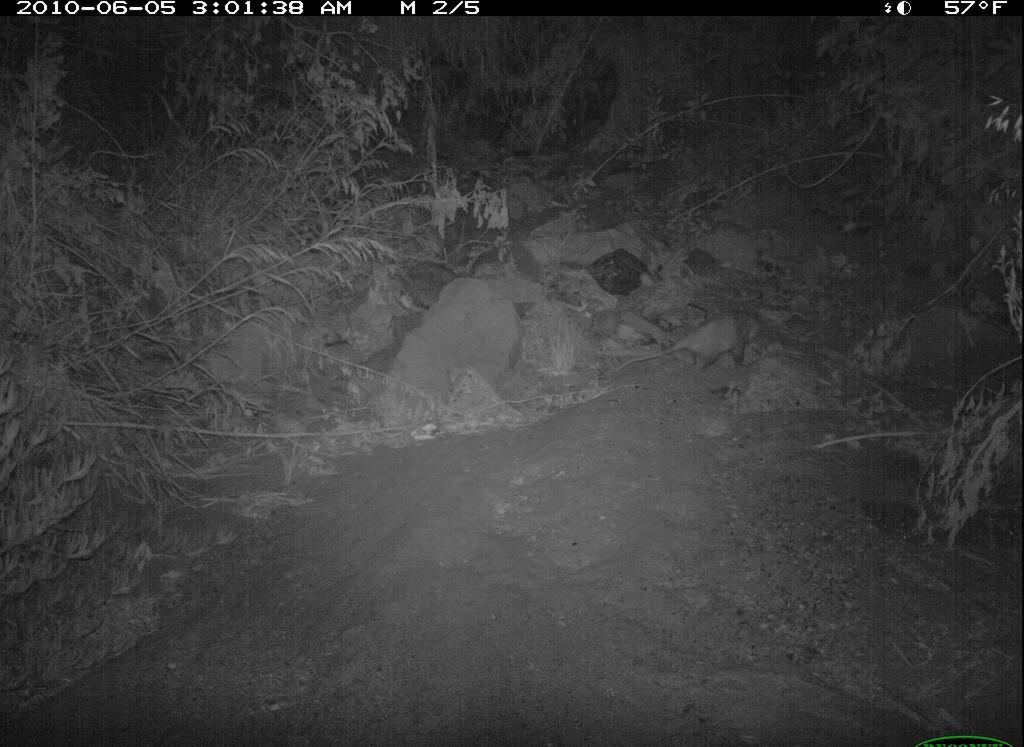opossum: (597, 305, 769, 388)
